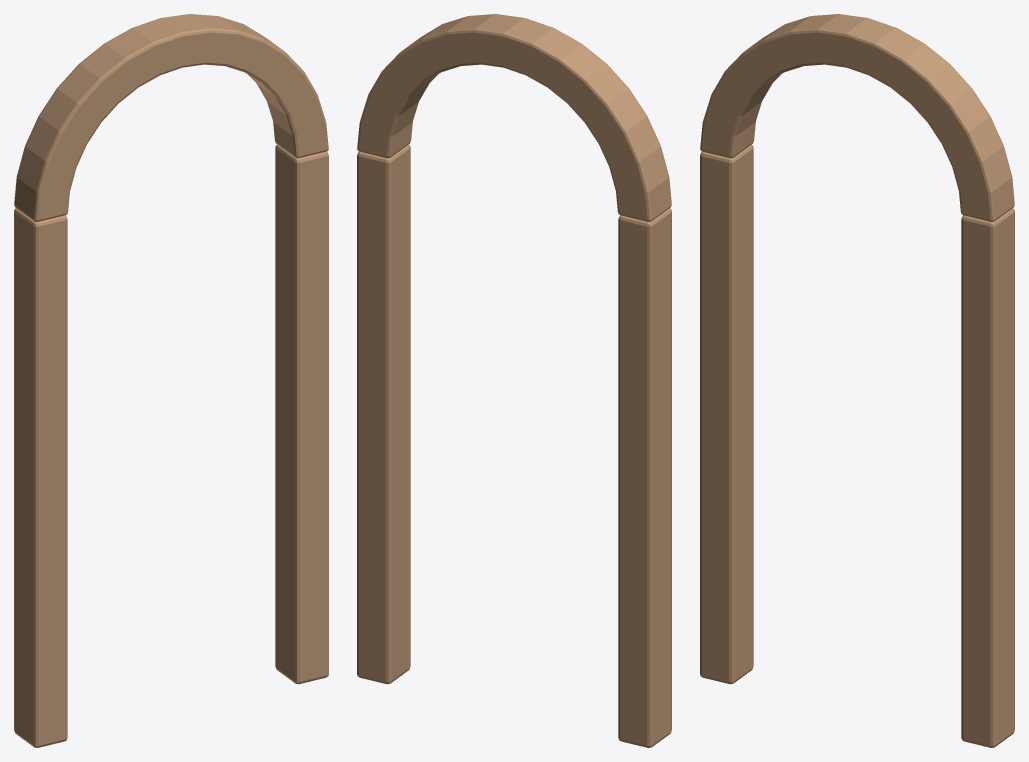
The model's file is doors__entries___window_views_asset_sheet_25.glb.
3 renders of one model, left to right at view 1: azimuth 30°, elevation 25°; view 2: azimuth 150°, elevation 25°; view 3: azimuth 330°, elevation 25°, orthographic.
Parts seen in each view (by area): view 1: Cube; view 2: Cube; view 3: Cube.
Boxes of the visible parts, <box> form: Cube: <box>14,14,328,747</box>; Cube: <box>357,14,671,747</box>; Cube: <box>700,14,1014,747</box>.
Size of the model in its own units: 1.05 by 2.31 by 0.14.
